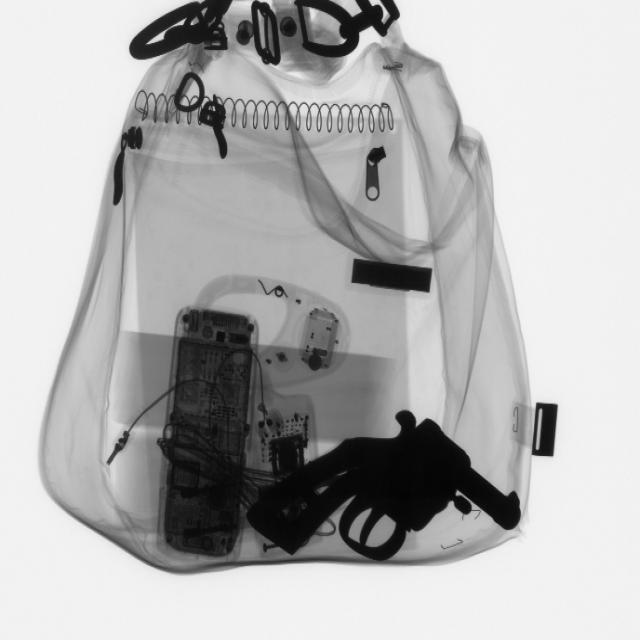GUN: (246, 408, 533, 566)
